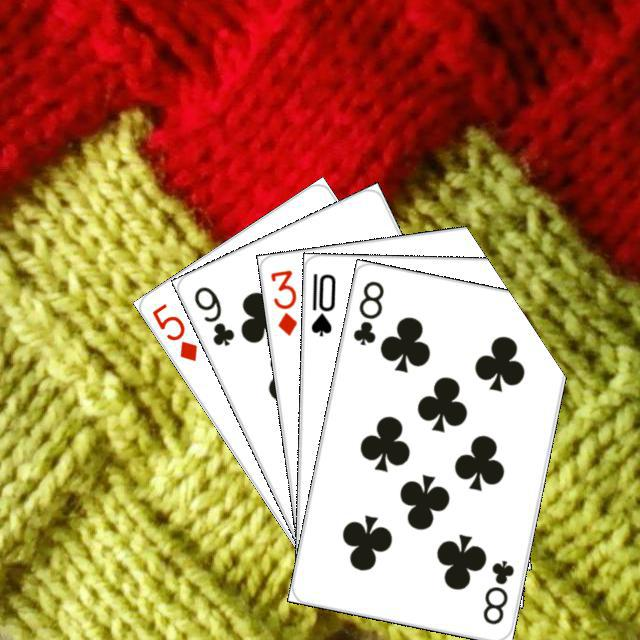10s: (306, 268, 338, 338)
3d: (265, 264, 299, 337)
5d: (147, 298, 200, 363)
8c: (477, 555, 516, 627), (348, 276, 386, 348)
9c: (189, 281, 236, 348)
